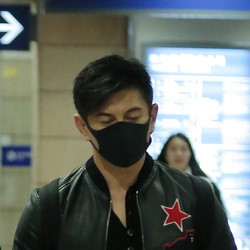mask: (78, 116, 153, 166)
